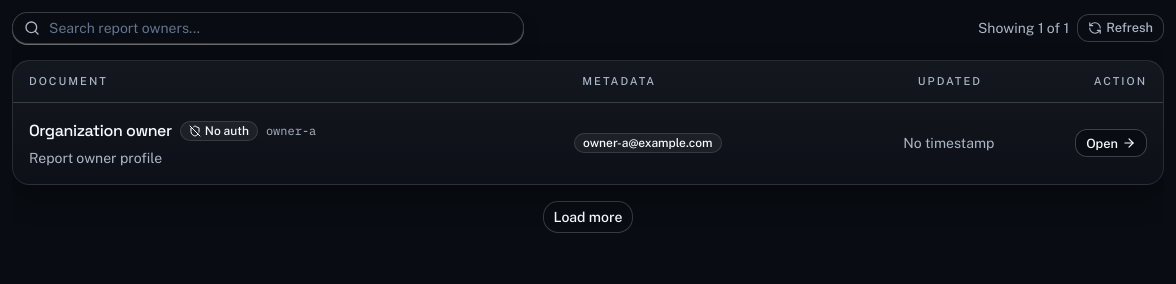
Test case: CollectionBrowser report owner pagination › loads every report-owner page through the visible Load more control
Check: the heading "Organization owner" is shown, box [29,119,172,144]
Click the button "Load more".
click(588, 217)  # box [543,201,634,233]
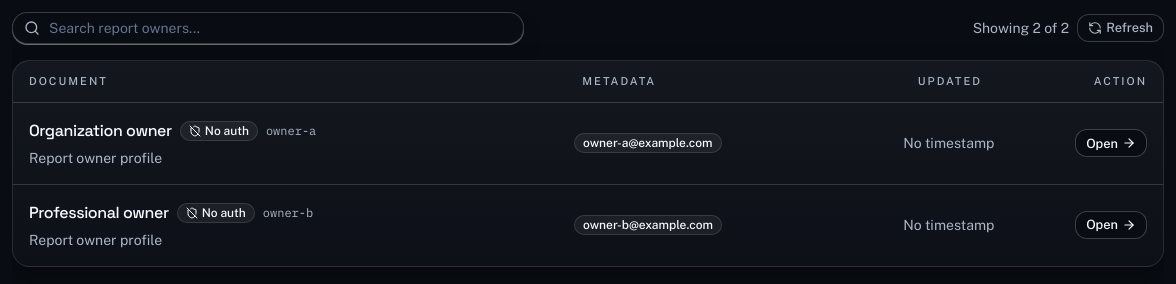
Check: the heading "Professional owner" is shown, box [29,201,169,226]
Check: the button "Load more" is gone
